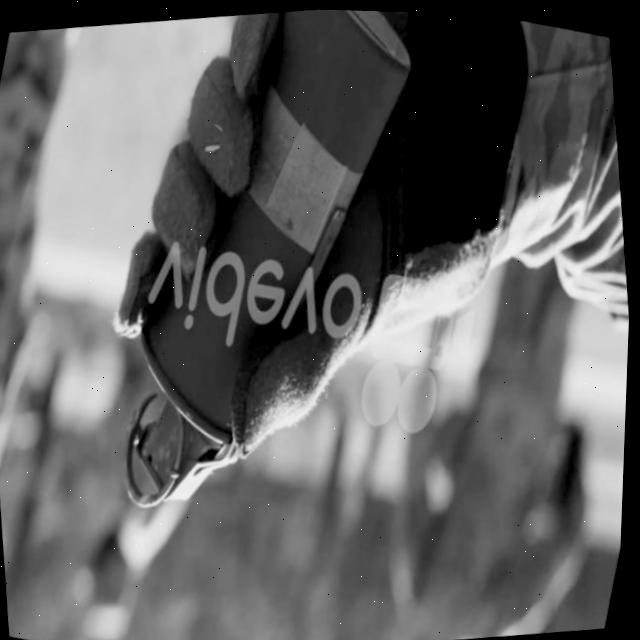grenade: (45, 1, 483, 560)
